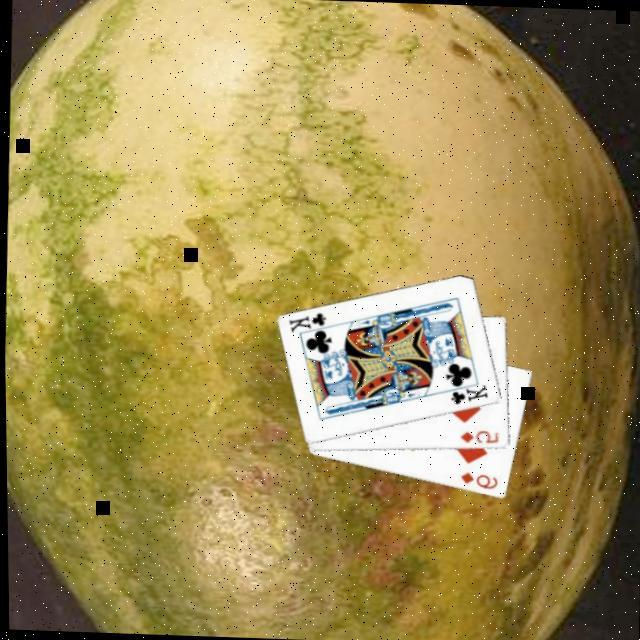5D: (454, 425, 497, 446)
6D: (452, 468, 497, 492)
KC: (438, 376, 488, 408), (282, 307, 332, 339)
